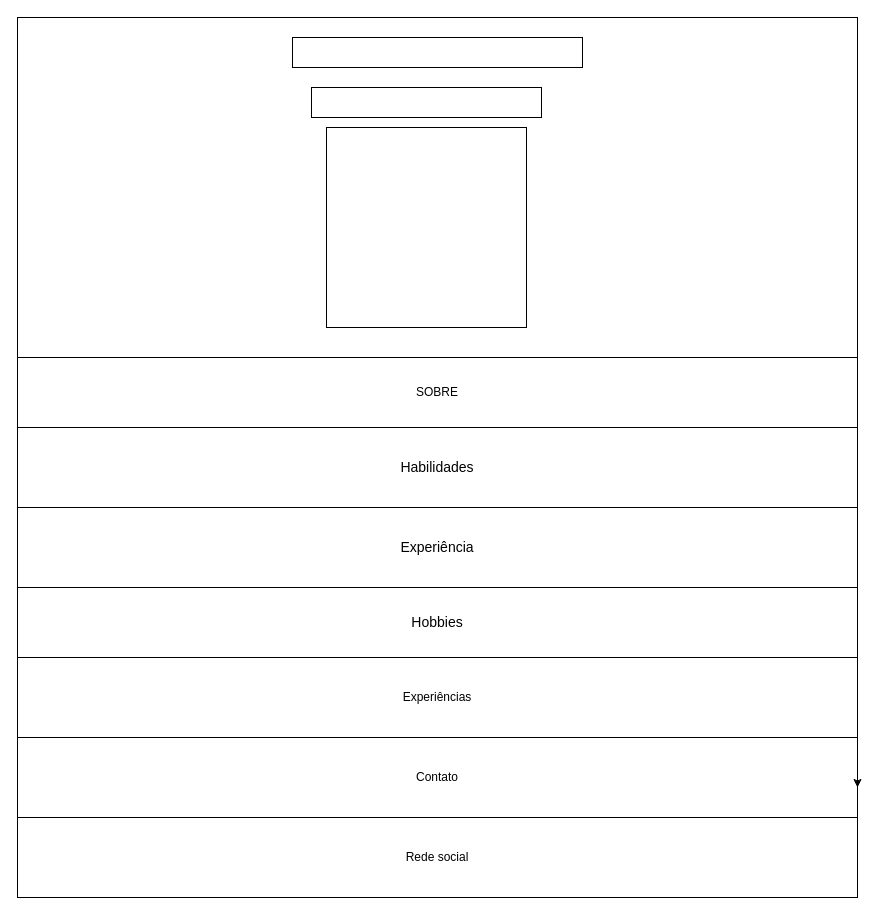
Some shapes in this 883 by 915 pixel diagram are drawn without their labels. The centre of each missing label's shape, as x and y in pixels:
Currículo online: pixel 437 52
Imagem: pixel 426 227
Nome: pixel 426 102
